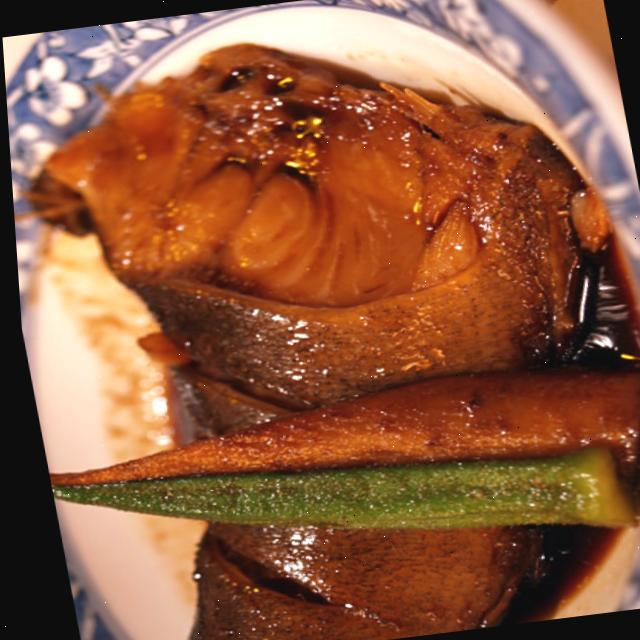熟制海鲜: (0, 5, 640, 640)
